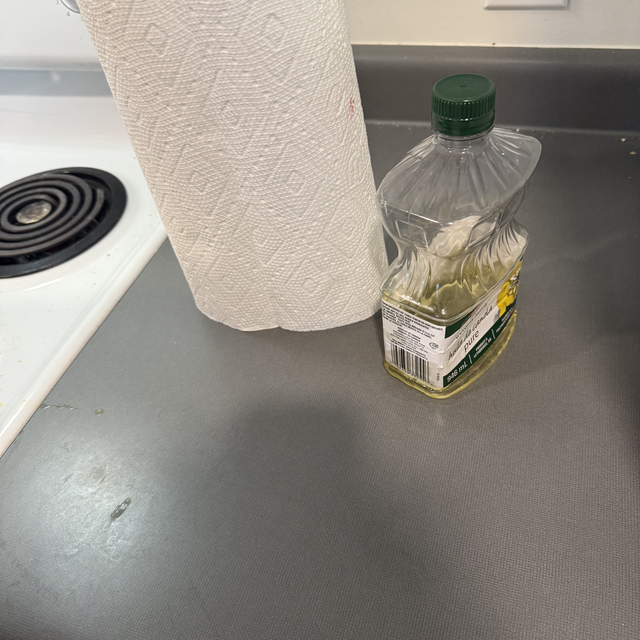Canola Oil: (362, 78, 570, 428)
Paper Towel: (71, 1, 416, 351)
